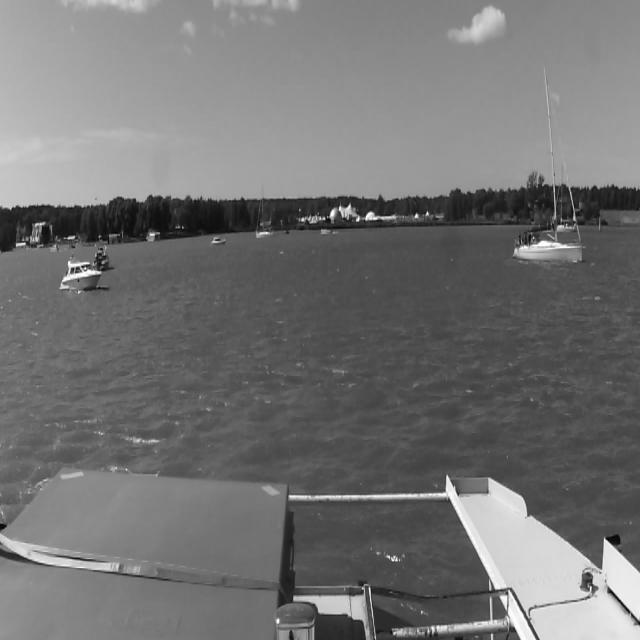ship: (512, 66, 584, 262), (63, 260, 101, 287), (256, 186, 274, 236), (95, 247, 107, 269), (212, 236, 226, 244)
